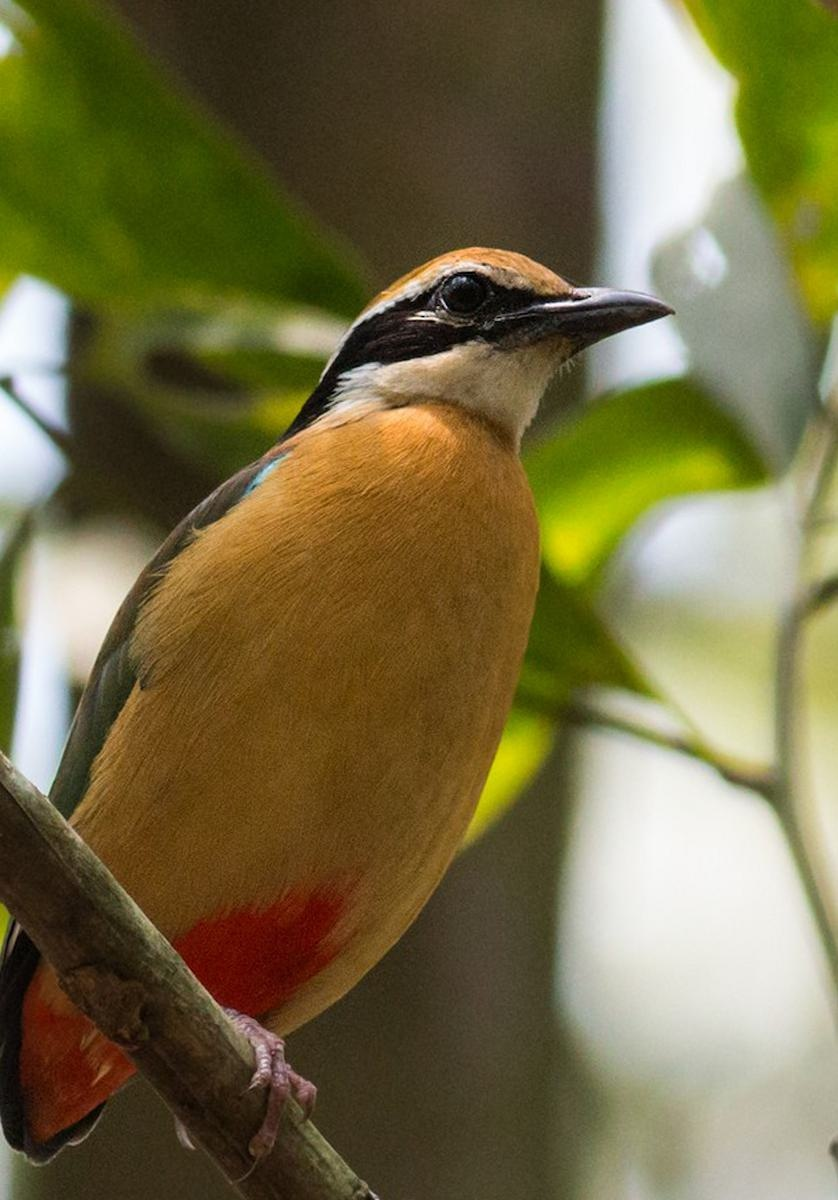pitta: (1, 214, 674, 1164)
